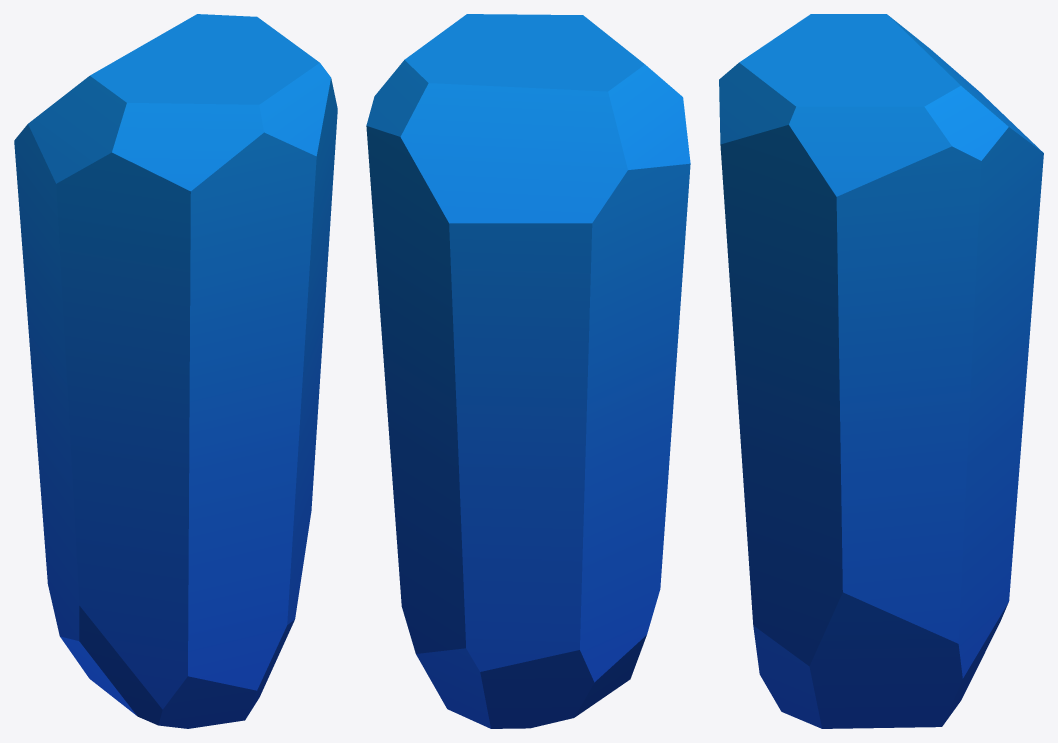
Rendered from crystal_02.glb.
The picture shows the model from 3 angles, left to right: view 1: azimuth 30°, elevation 25°; view 2: azimuth 150°, elevation 25°; view 3: azimuth 270°, elevation 25°; orthographic projection. The views are drawn at different scales.
Parts seen in each view (by area): view 1: crystal_10; view 2: crystal_10; view 3: crystal_10.
Boxes of the visible parts, x1,y1,x2,y2 form: crystal_10: [14, 14, 337, 728]; crystal_10: [366, 14, 690, 728]; crystal_10: [719, 14, 1043, 728].
Bounding box in the file's own units: 4.02 × 8.62 × 3.93.
Materials: 1 (1 with a texture image).
